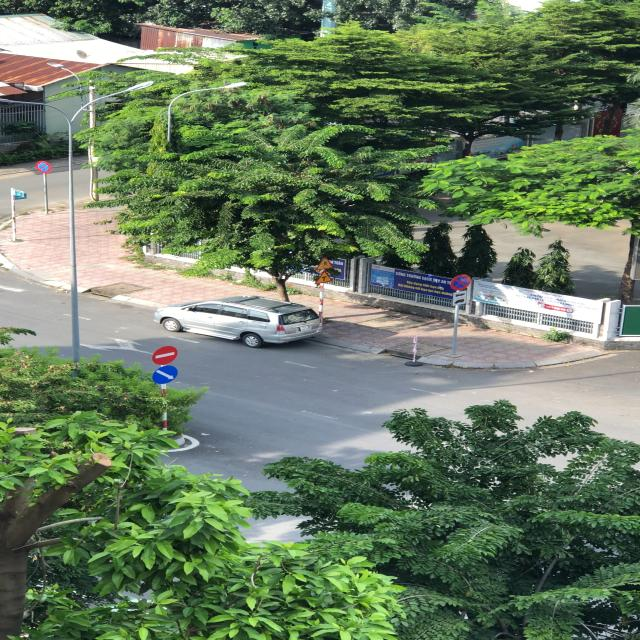Bien bao cam di nguoc chieu: (147, 345, 183, 366)
Bien bao cam dung xe va do xe: (449, 274, 476, 292)
Bien bao duong giao nhau: (313, 270, 338, 284)
Bien bao duong nguoi di bo cat ngang: (311, 258, 336, 270)
Bien bao huong phai di vong chuong ngai vat: (148, 365, 188, 387)
